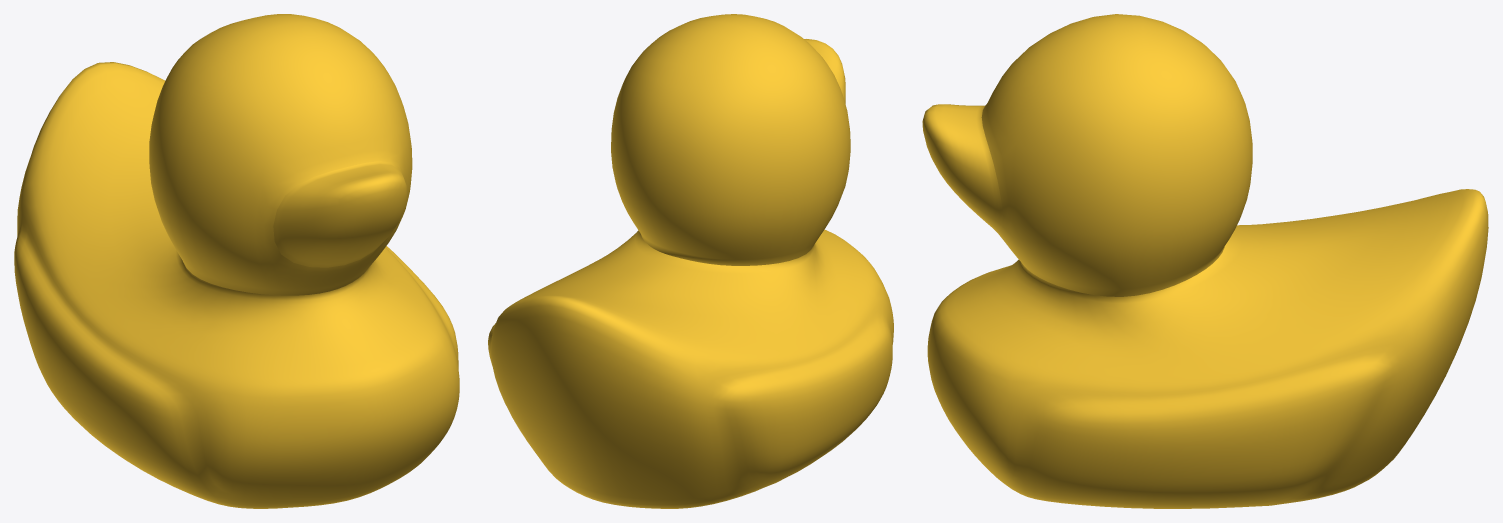
Rendered from duck.glb.
The picture shows the model from 3 angles, left to right: view 1: azimuth 30°, elevation 25°; view 2: azimuth 150°, elevation 25°; view 3: azimuth 270°, elevation 25°; orthographic projection. The views are drawn at different scales.
Visible parts, largest first — view 1: RubberDuck_LOD0.fbx / RubberDuck_LOD0; view 2: RubberDuck_LOD0.fbx / RubberDuck_LOD0; view 3: RubberDuck_LOD0.fbx / RubberDuck_LOD0.
Part boxes in pixels (left/top/right/bottom): RubberDuck_LOD0.fbx / RubberDuck_LOD0: left=14, top=14, right=459, bottom=508; RubberDuck_LOD0.fbx / RubberDuck_LOD0: left=488, top=14, right=893, bottom=508; RubberDuck_LOD0.fbx / RubberDuck_LOD0: left=922, top=14, right=1488, bottom=508.
Size of the model in its own units: 0.1307 by 0.1592 by 0.19.
